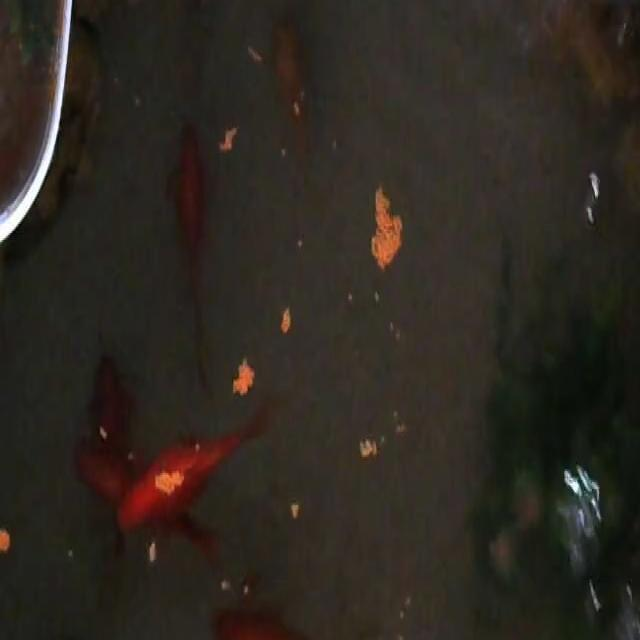fish: (118, 392, 279, 548), (166, 126, 216, 388), (271, 12, 313, 166), (84, 351, 137, 461), (211, 594, 330, 640), (74, 434, 133, 508)
